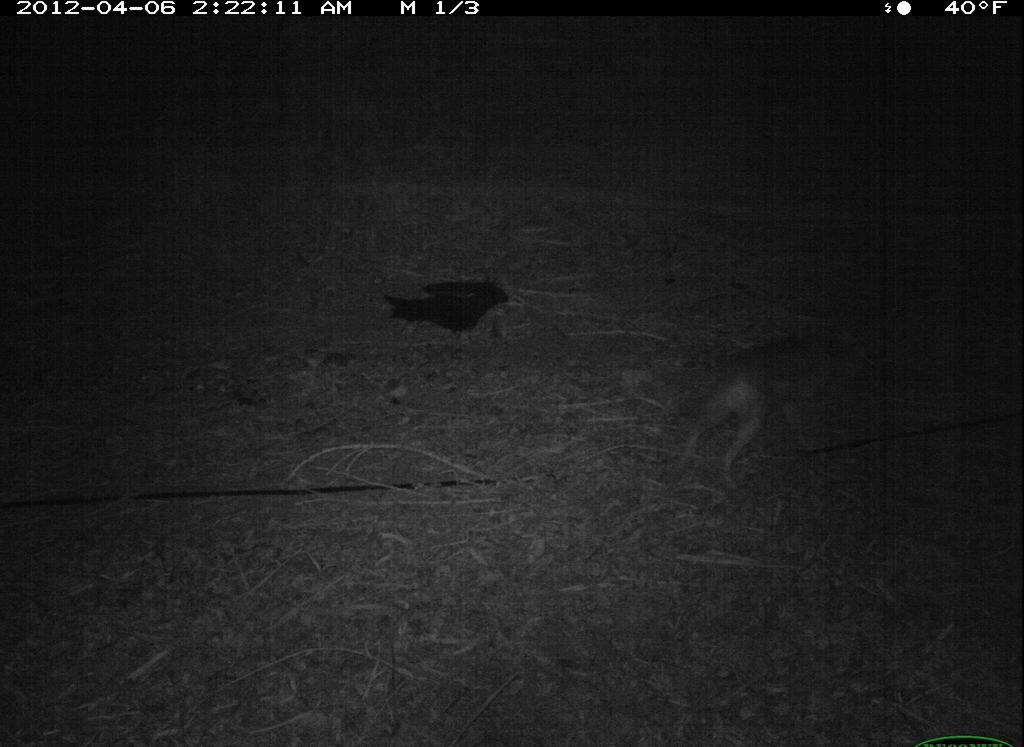coyote: (661, 317, 890, 500)
